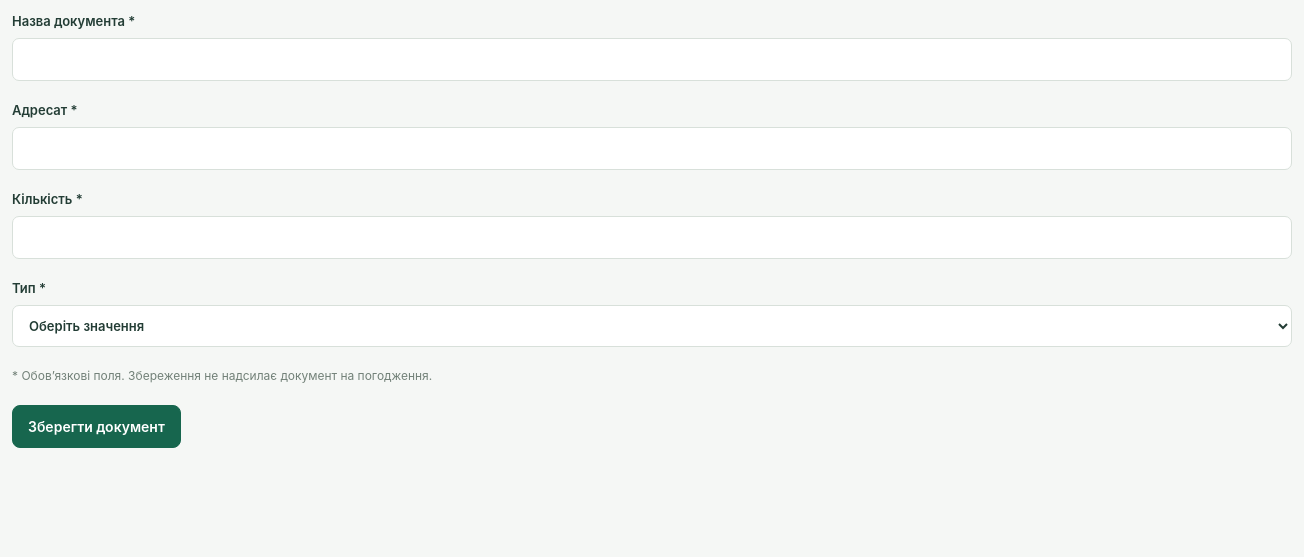
Test: [module2] Dynamic document forms › shows required field errors and never submits invalid form
This screenshot has width=1304, height=557.
Click the button "Зберегти документ".
click(96, 426)  # box [12, 404, 181, 448]
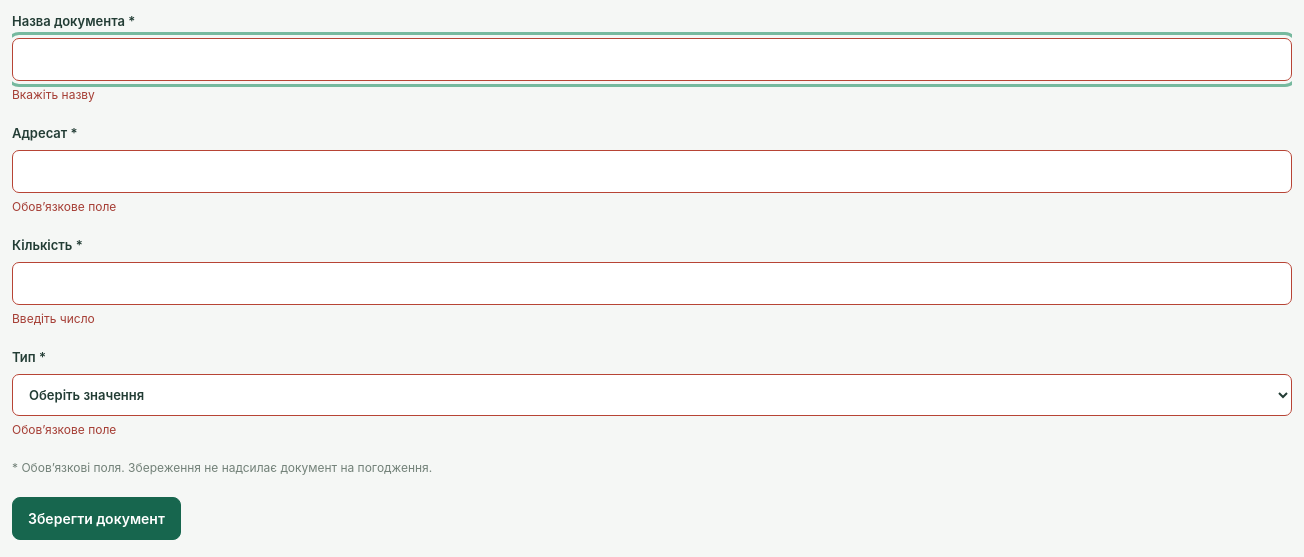
Expected: the text "Вкажіть назву" is shown, [12, 87, 95, 102]
